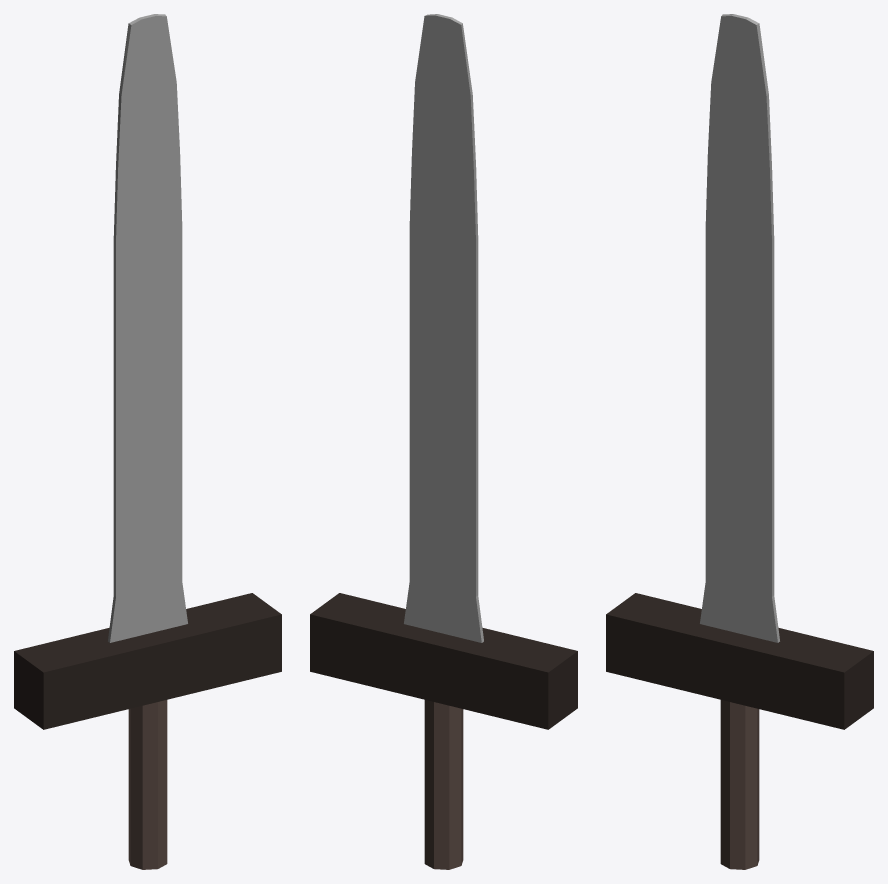
File: sword.glb
3 views of the same model, side by side, from view 1: azimuth 30°, elevation 25°; view 2: azimuth 150°, elevation 25°; view 3: azimuth 330°, elevation 25° (orthographic).
Parts seen in each view (by area): view 1: Blade, Stopper, Cylinder; view 2: Blade, Stopper, Cylinder; view 3: Blade, Stopper, Cylinder.
Boxes of the visible parts, x1,y1,x2,y2 form: Blade: [108, 14, 187, 642]; Stopper: [14, 593, 281, 729]; Cylinder: [128, 700, 167, 869]; Blade: [404, 14, 483, 642]; Stopper: [310, 593, 577, 729]; Cylinder: [424, 700, 463, 869]; Blade: [700, 14, 779, 642]; Stopper: [606, 593, 873, 729]; Cylinder: [720, 700, 759, 869].
Size of the model in its own units: 0.3872 by 1.31 by 0.0829.
